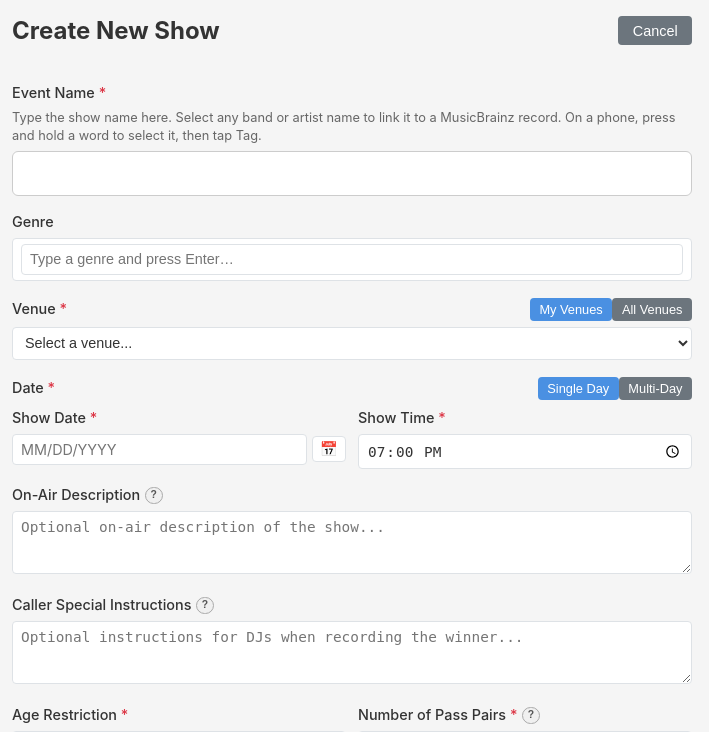
Test case: ShowForm › On-Air Description Language Check › should warn about promotional language and the word tickets
This screenshot has width=709, height=732.
Type "This legendary band has tickets available." into the text box labelled "On-Air Description" at (352, 543), box [12, 511, 692, 574]
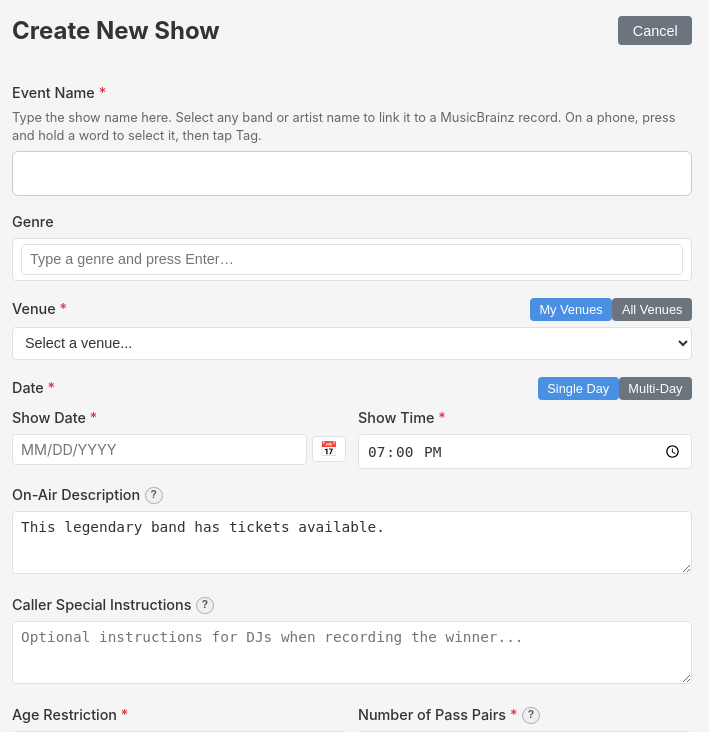
Leave the text box labelled "On-Air Description", box [12, 511, 692, 574]
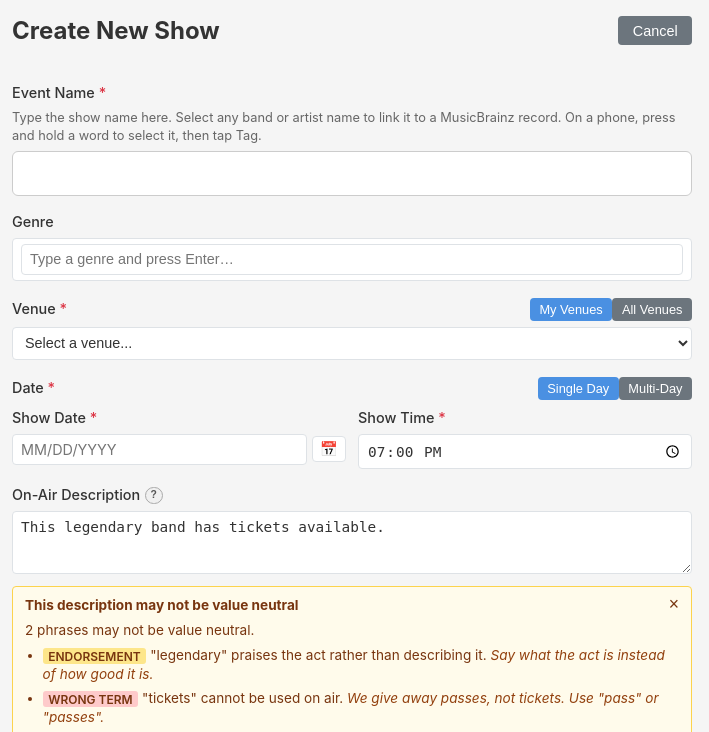
Expected: the text "This description may not be value neutral" is shown, [25, 596, 298, 615]
Expected: the list item "\"legendary\" praises the act rather than describing it." is shown, [150, 647, 487, 663]
Expected: the list item "\"tickets\" cannot be used on air." is shown, [142, 690, 343, 706]
